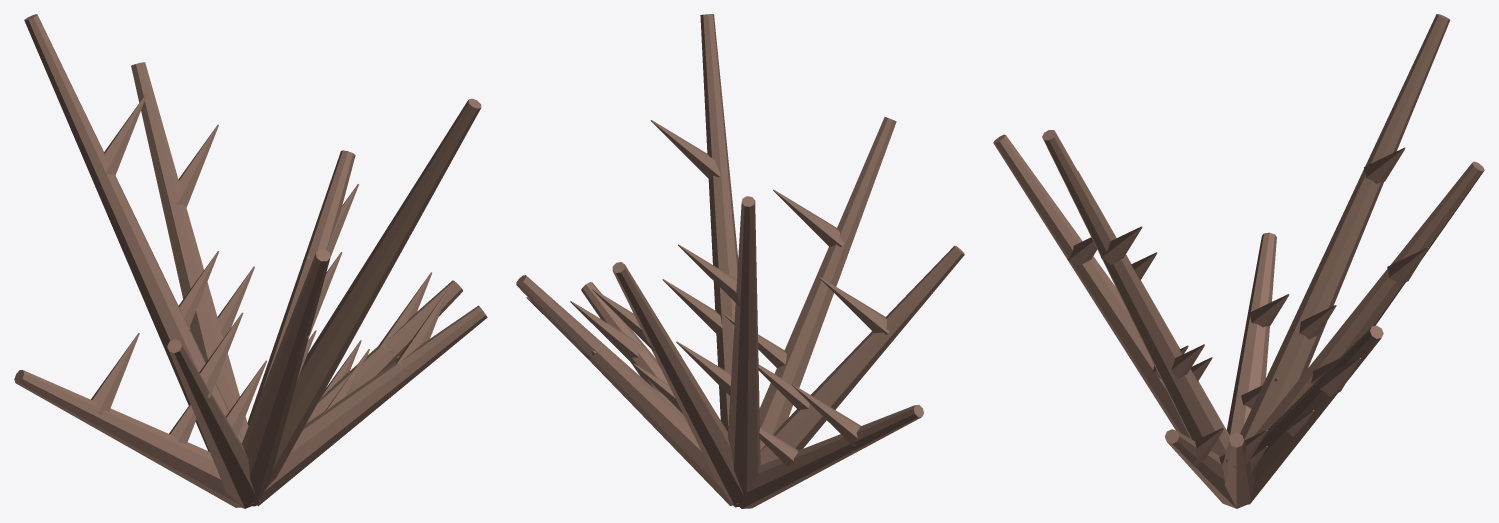
File: thorn_bush.glb
3 renders of one model, left to right at view 1: azimuth 30°, elevation 25°; view 2: azimuth 150°, elevation 25°; view 3: azimuth 270°, elevation 25°, orthographic. The views are drawn at different scales.
Size of the model in its own units: 0.6484 by 0.6369 by 0.6494.
